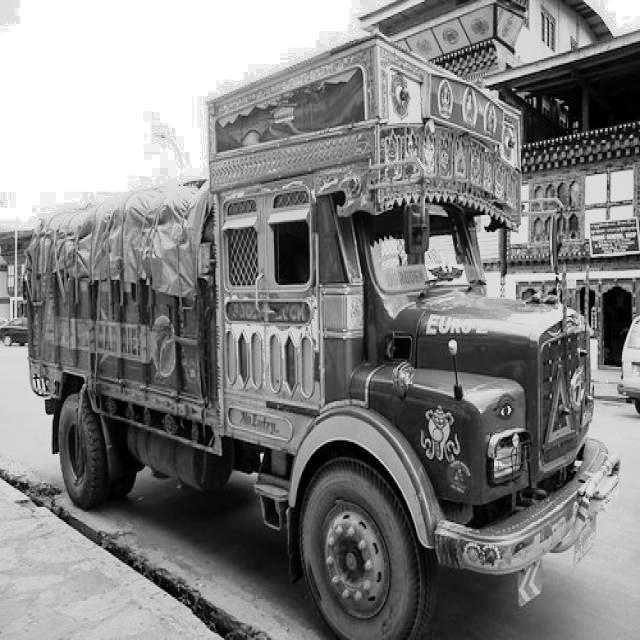HCV: (14, 24, 628, 640)
